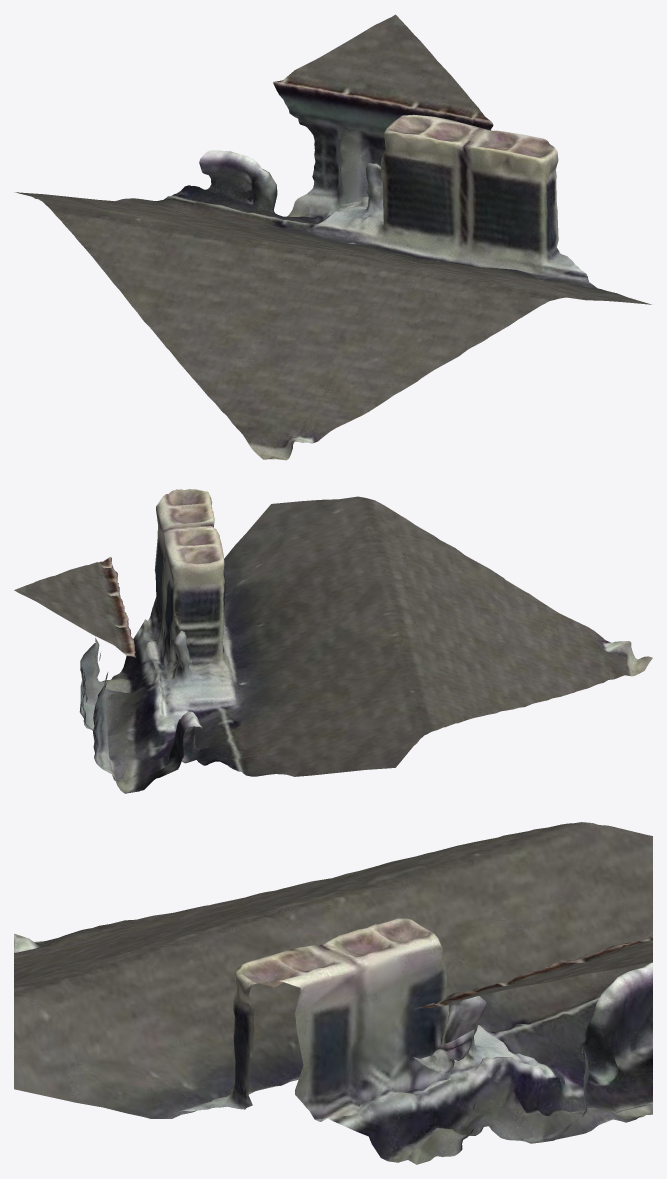
The picture shows the model from 3 angles, top to bottom: view 1: azimuth 30°, elevation 25°; view 2: azimuth 150°, elevation 25°; view 3: azimuth 270°, elevation 25°; orthographic projection. The views are drawn at different scales.
Bounding box in the file's own units: 6.43 × 2.84 × 7.51.
1 material, 1 textured.
